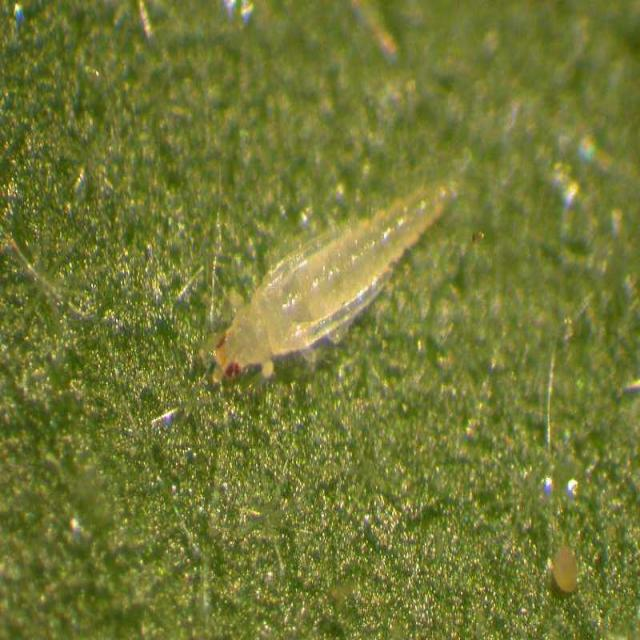Thrip-Larva-: (195, 158, 485, 404)
